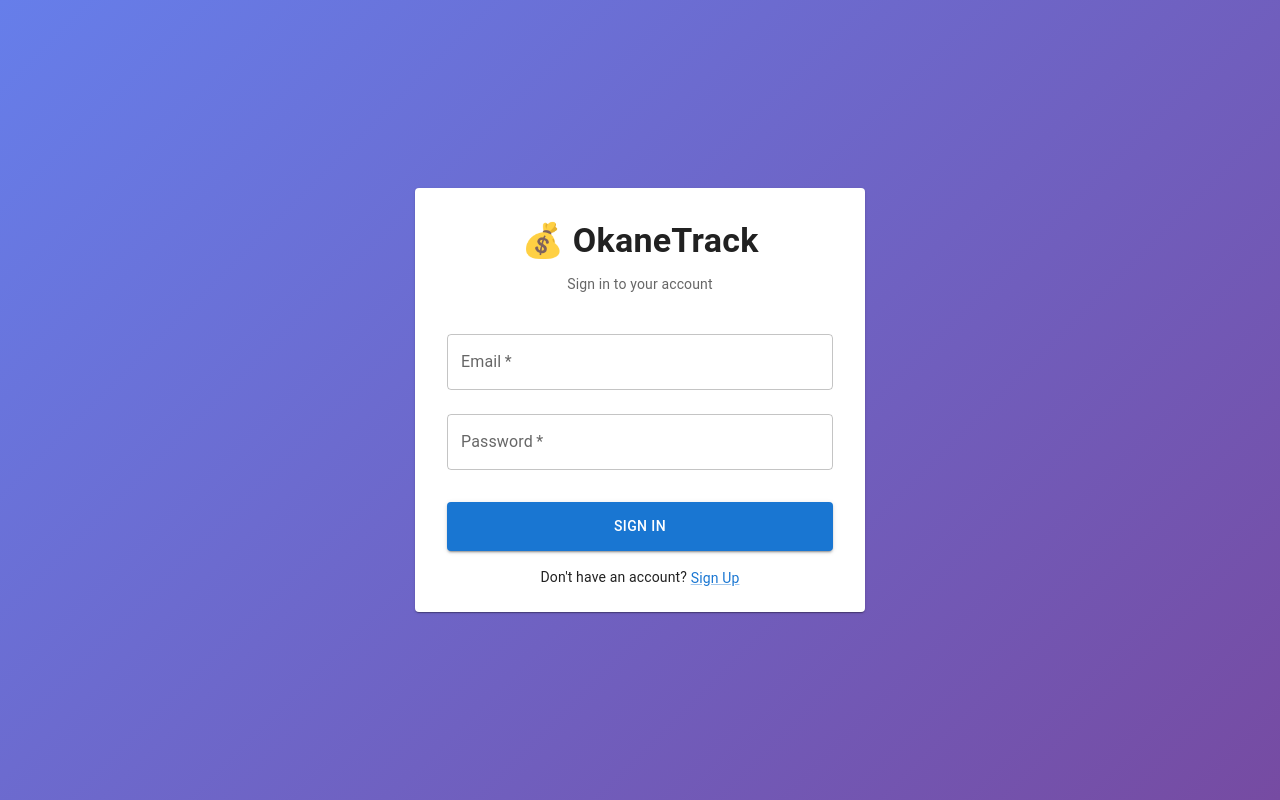
Test: Login › Form Submission - Login › should show error message on login failure
In the field labelled "Email *": [640, 362] box 447,334 -> 833,390, type "test@example.com"
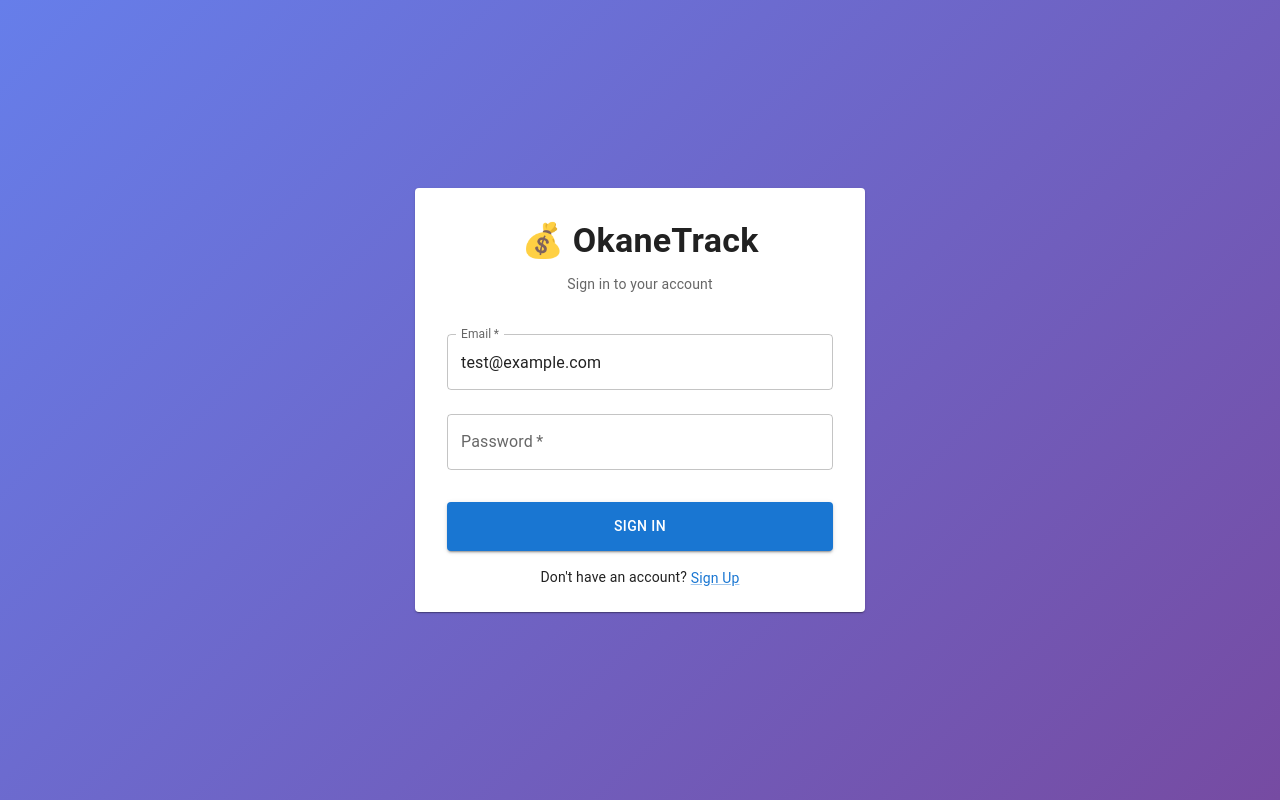
In the password field labelled "Password *": [640, 442] box 447,414 -> 833,470, type "wrongpassword"
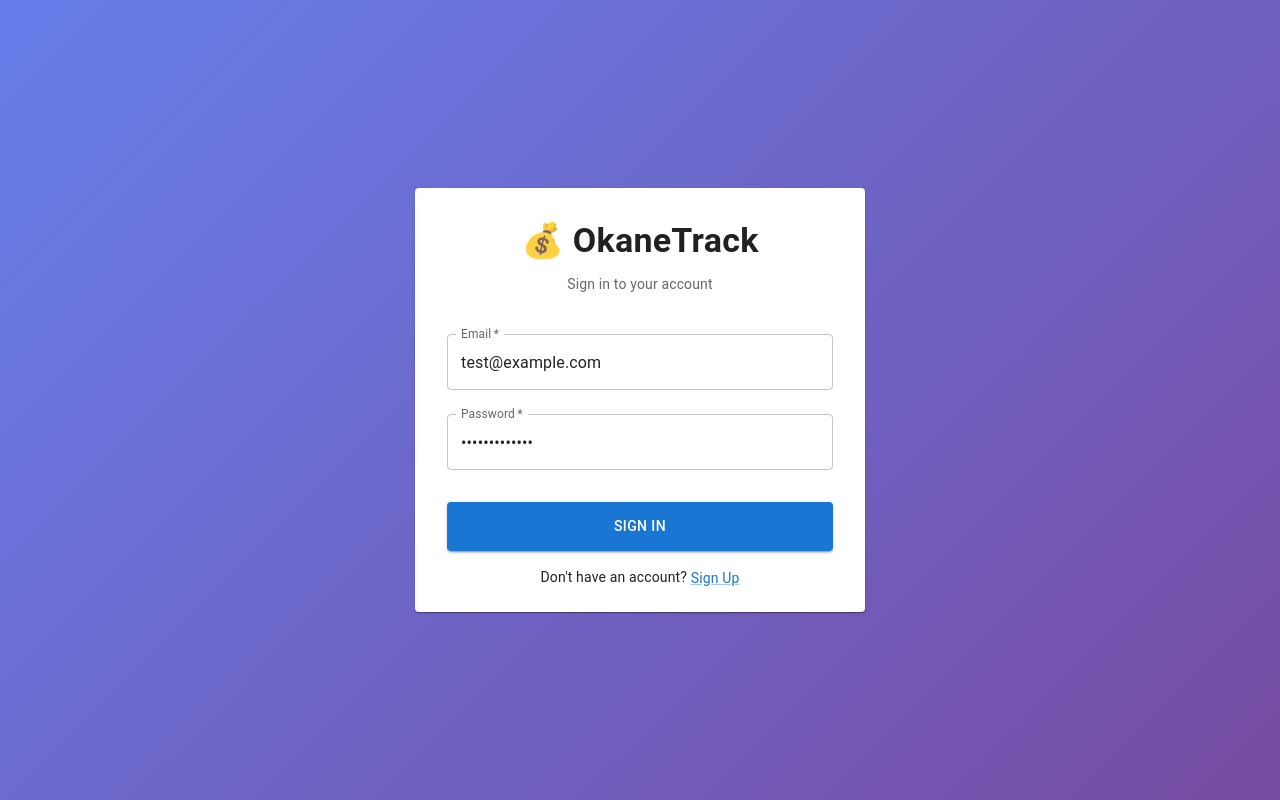
Click the button "Sign In": [640, 526] box 447,502 -> 833,550
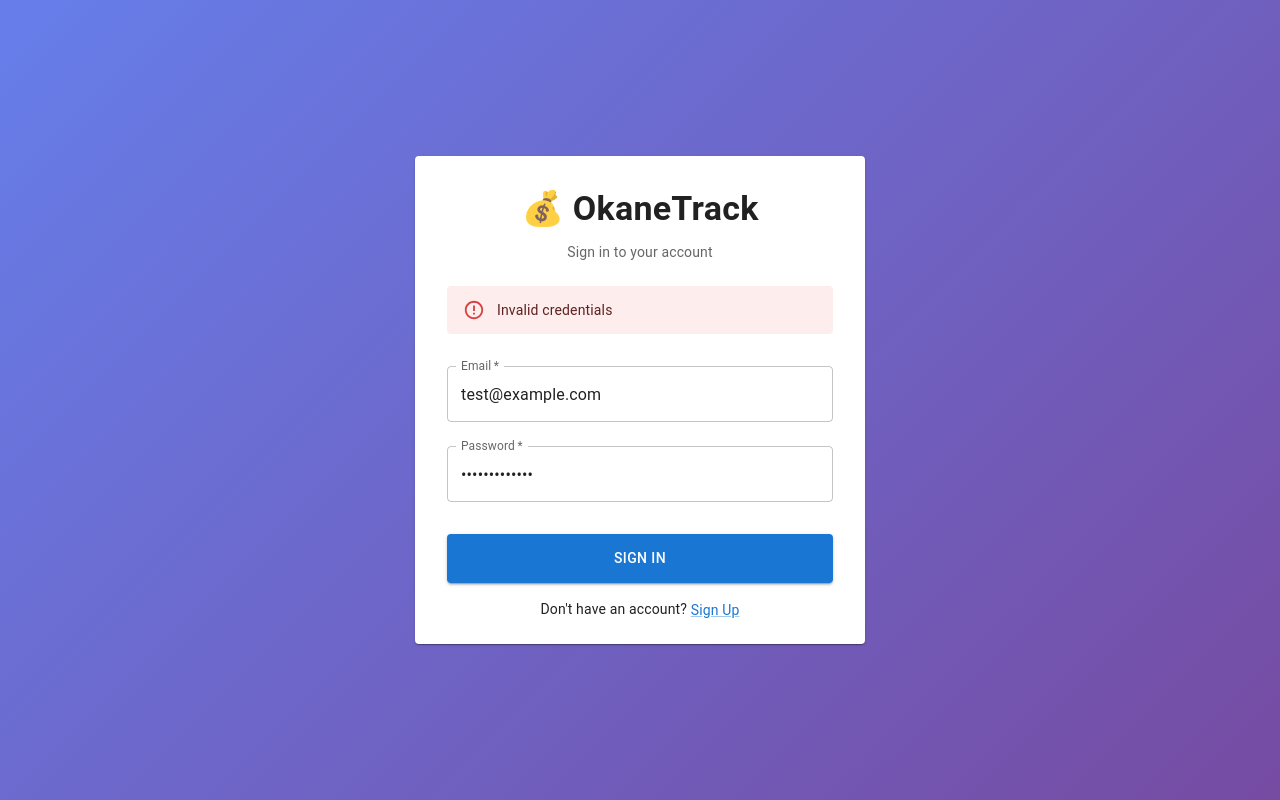
expect the text "Invalid credentials" is shown: met, box 497,302 -> 612,318
